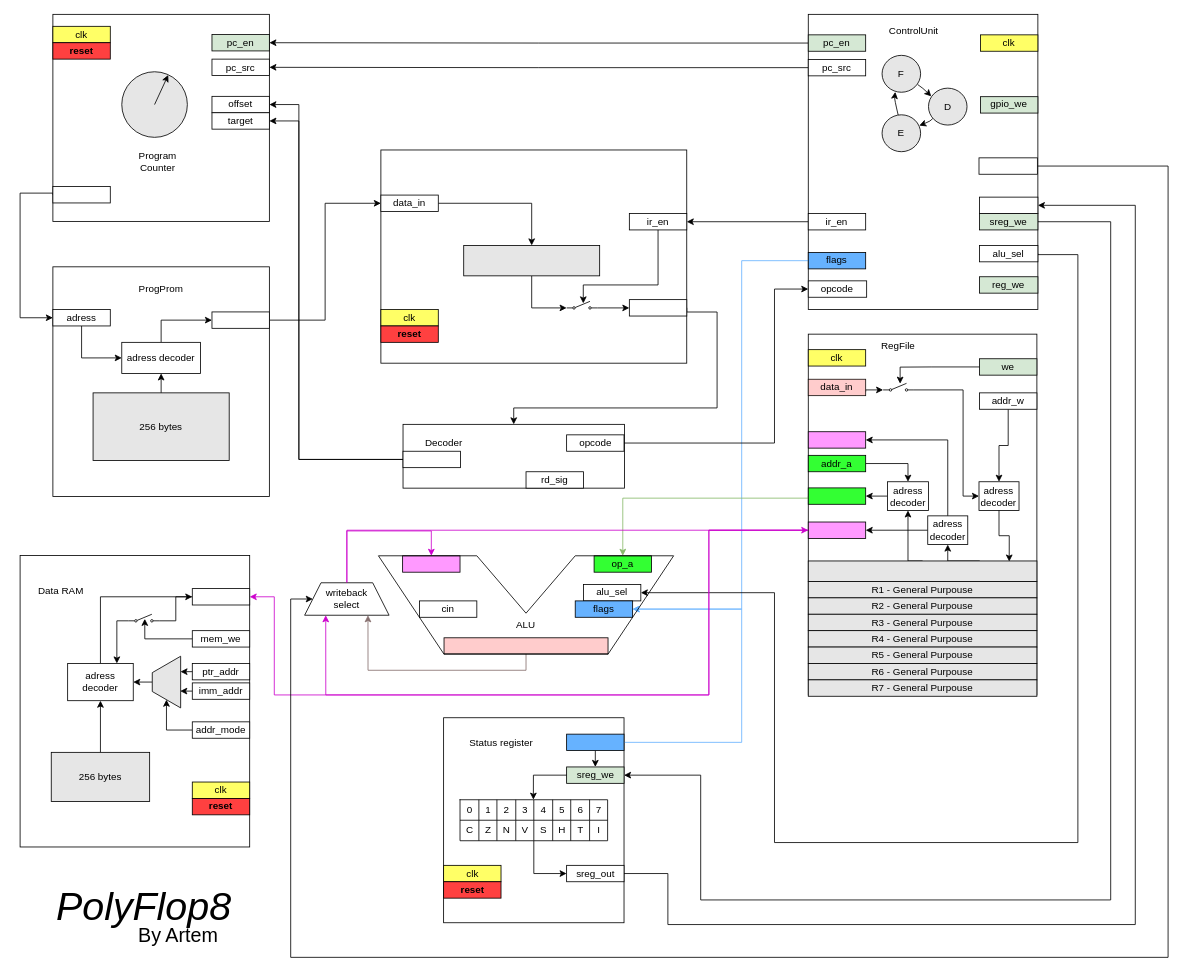
This 1189x978 diagram has some shape labels left out. The centre of each missing label's shape, as x and y in pixels:
addr_b: the point at 836,439
alu_flags: the point at 595,742
argument: the point at 431,459
data: the point at 220,596
data_a: the point at 836,495
data_b: the point at 836,529
data_out: the point at 240,319
Instructon register: the point at 531,260
ir_out: the point at 658,307
op_b: the point at 431,563
pc_out: the point at 81,194
R0 - Accumulator: the point at 922,570
result: the point at 525,645
sreg_in: the point at 1008,205
wb_sel: the point at 1007,165
